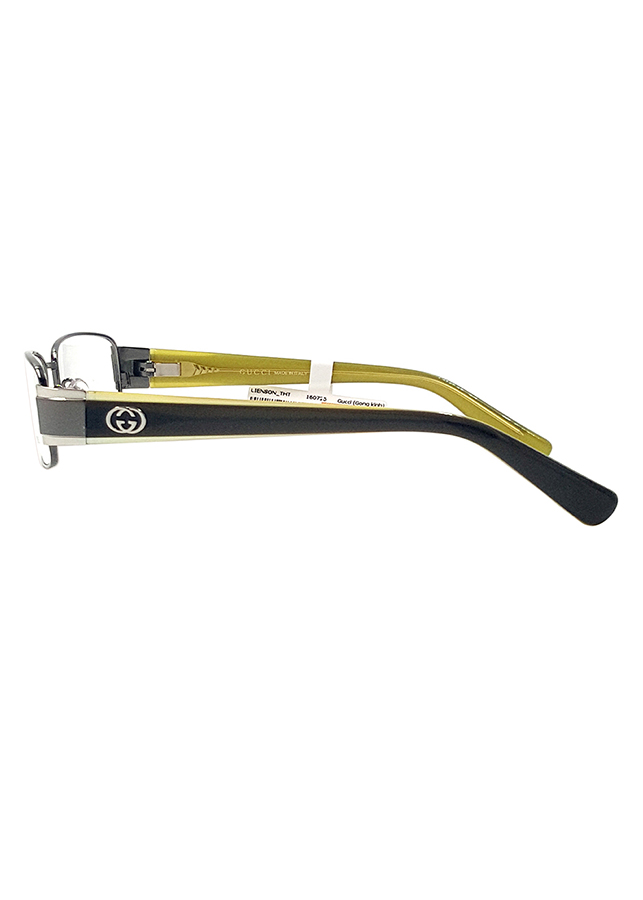Gucci: (101, 401, 151, 437), (232, 364, 279, 383)
